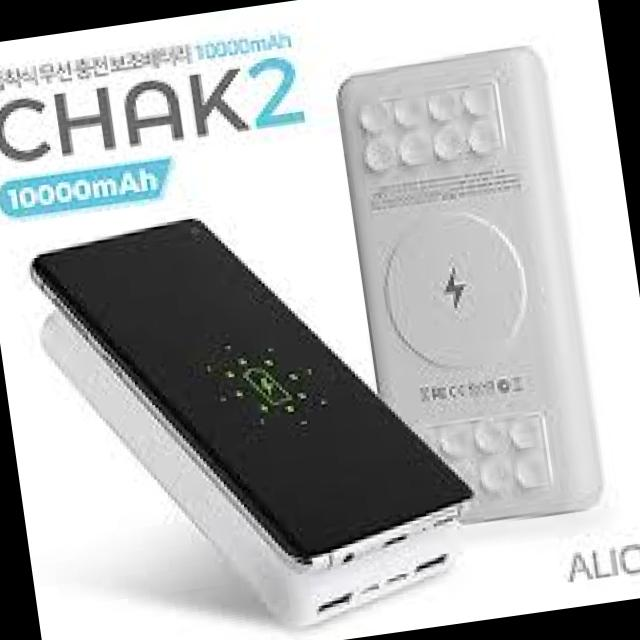portable-charger: (37, 261, 468, 640), (327, 42, 610, 542)
